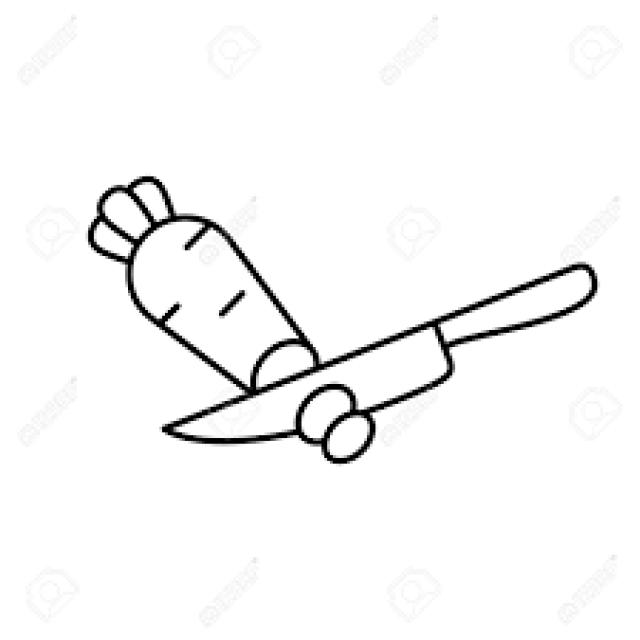Knife: (85, 174, 598, 464)
